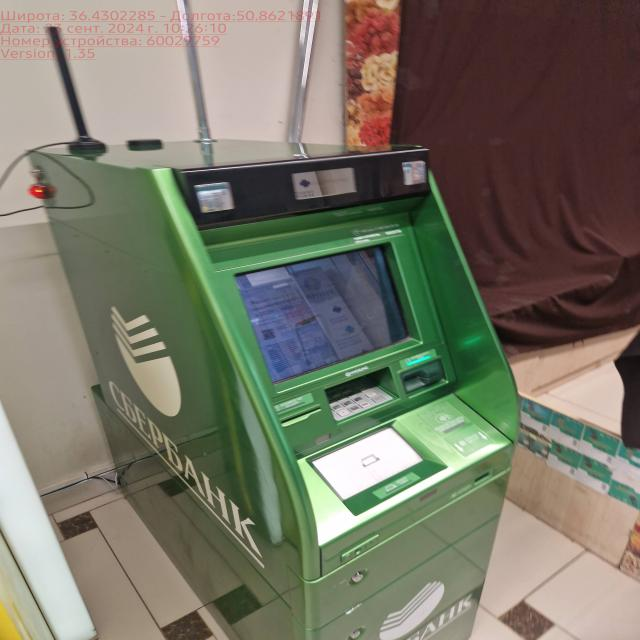bank: (25, 133, 520, 640)
